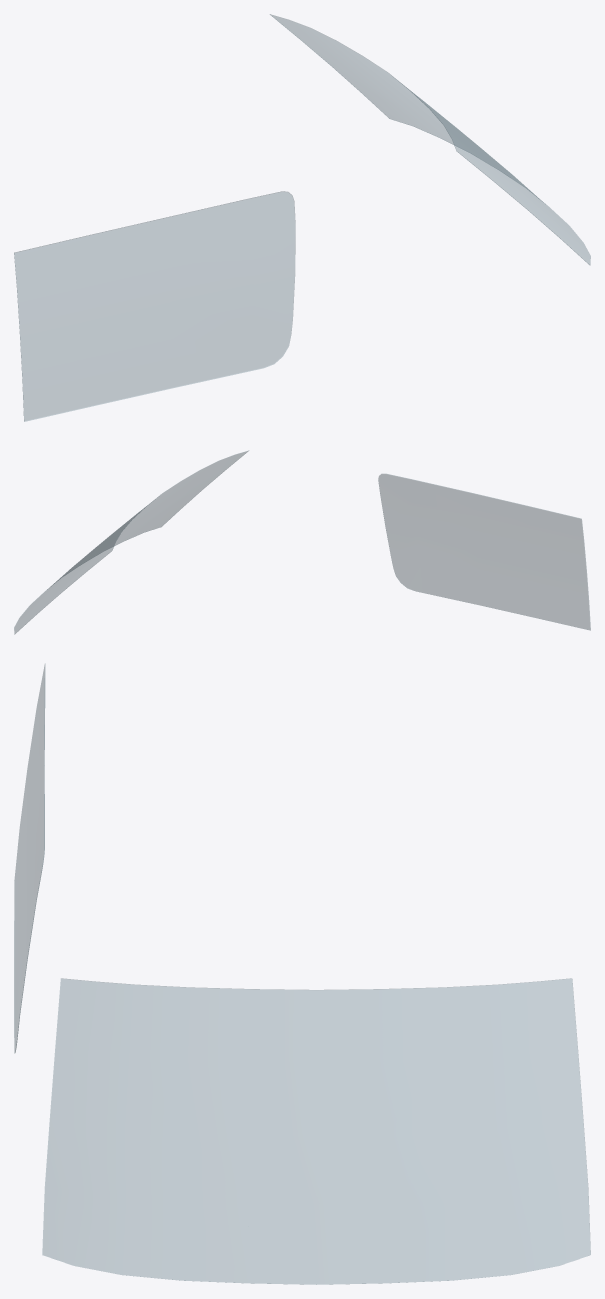
The picture shows the model from 3 angles, top to bottom: view 1: azimuth 30°, elevation 25°; view 2: azimuth 150°, elevation 25°; view 3: azimuth 270°, elevation 25°; orthographic projection. The views are drawn at different scales.
Visible parts, largest first — view 1: SM_MercedesSprinter_Glass_Ext2; view 2: SM_MercedesSprinter_Glass_Ext2; view 3: SM_MercedesSprinter_Glass_Ext2.
Boxes of the visible parts, x1,y1,x2,y2 form: SM_MercedesSprinter_Glass_Ext2: (14, 14, 590, 421); SM_MercedesSprinter_Glass_Ext2: (14, 450, 590, 634); SM_MercedesSprinter_Glass_Ext2: (14, 664, 590, 1284).
Bounding box in the file's own units: 3.09 × 0.7977 × 1.84.
